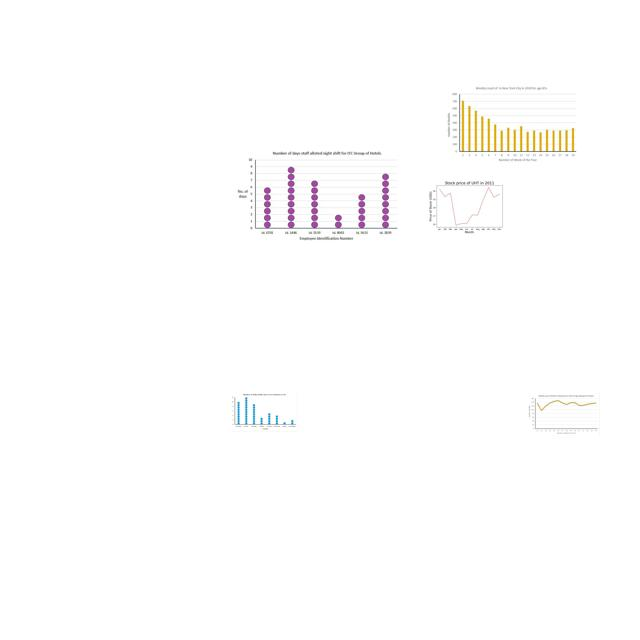Graph: (232, 149, 401, 244), (444, 84, 579, 165), (426, 174, 511, 238), (527, 393, 600, 436), (231, 392, 298, 432)
